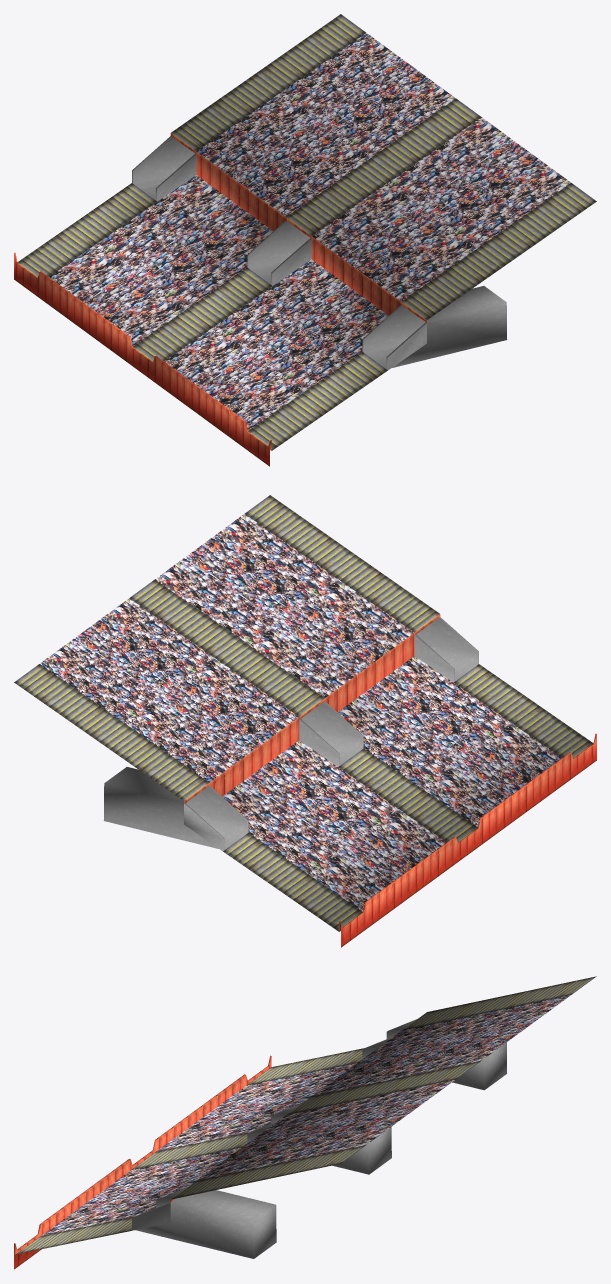
File: tribune_double_middle.fbx
3 views of the same model, one above another, from view 1: azimuth 30°, elevation 25°; view 2: azimuth 150°, elevation 25°; view 3: azimuth 330°, elevation 25° (orthographic).
Visible parts, largest first — view 1: Cube_001; view 2: Cube_001; view 3: Cube_001.
Part boxes in pixels (box(x1,y1,x2,y2)): Cube_001: box(14, 14, 596, 466); Cube_001: box(14, 495, 596, 947); Cube_001: box(14, 976, 596, 1269).
Size of the model in its own units: 44.2 by 24 by 60.
